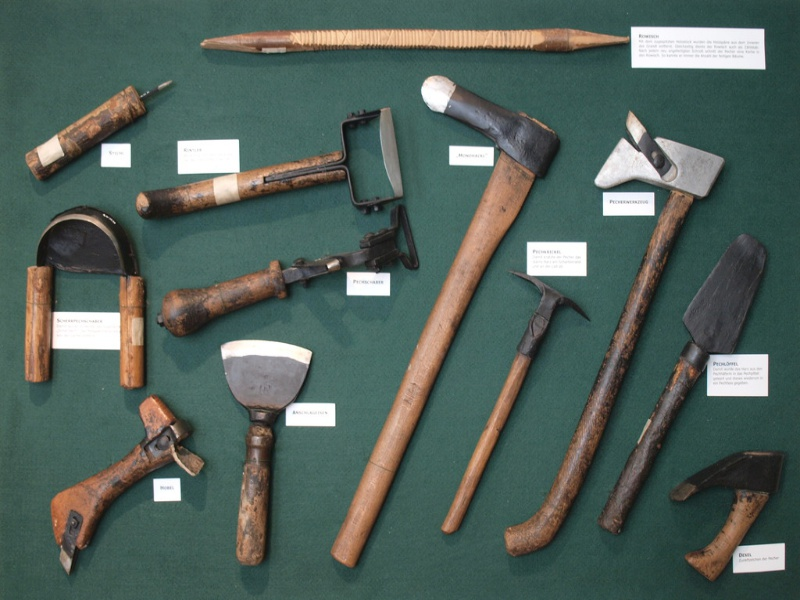axe: (412, 71, 580, 214), (588, 103, 730, 243), (665, 445, 794, 526)
